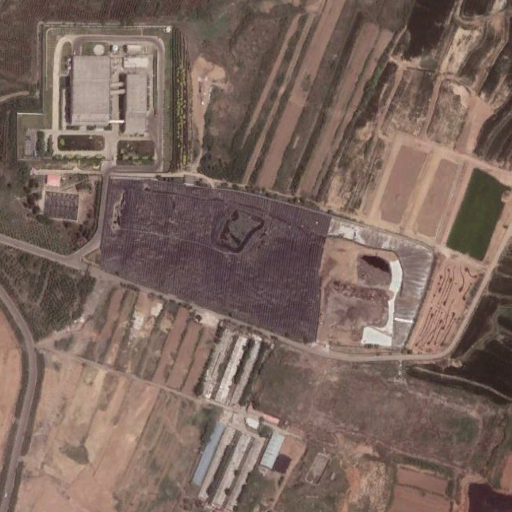lf: (97, 174, 430, 353)
